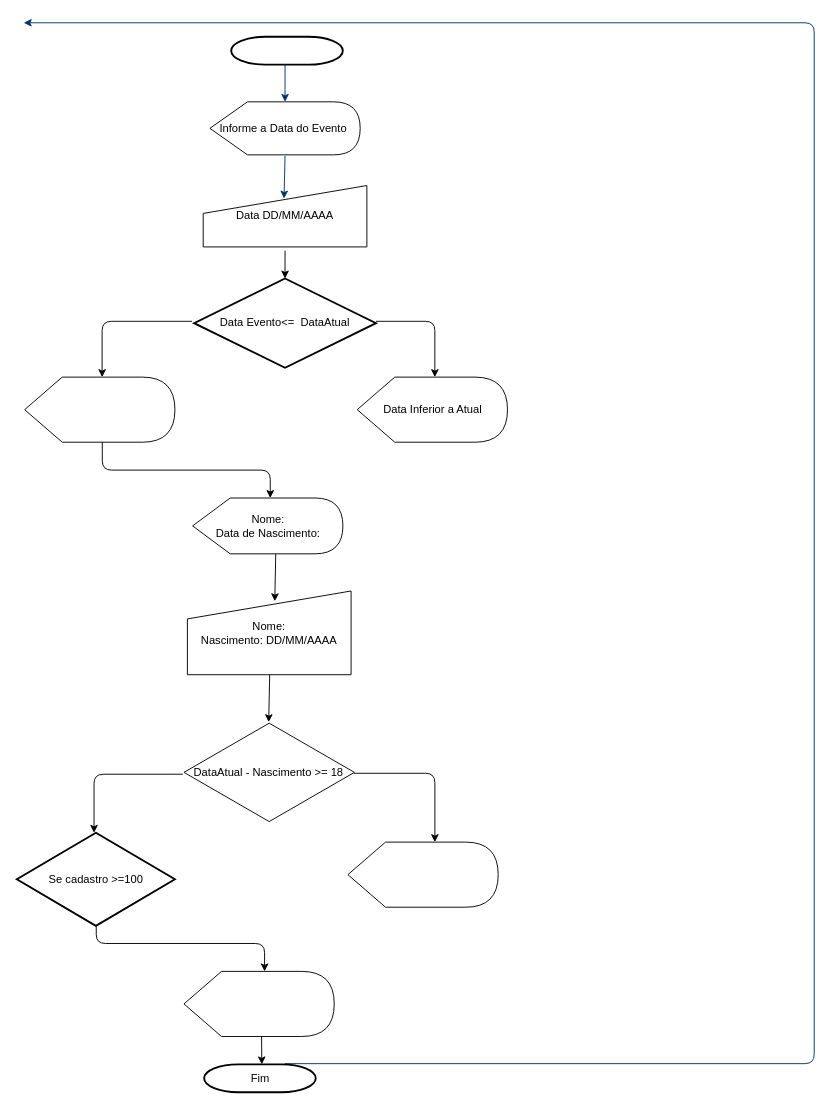
Some shapes in this 838 by 1109 pixel diagram are drawn without their labels. Here are the shapes that lost their labels. From the top down, the centre of each, then its label:
At [286,50]: "Inicio".
At [99,409]: "Cadastre-se".
At [422,874]: "Idade Inferior a Minima Permitida".
At [258,1003]: "Cadastrar".
